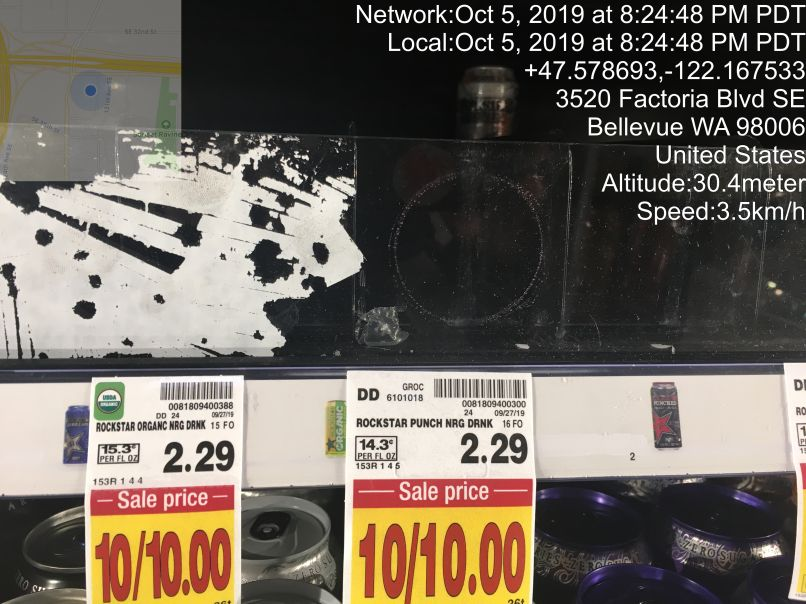Label: (86, 371, 250, 482)
Location: (543, 83, 806, 170)
Time: (347, 3, 801, 53)
Void: (24, 42, 529, 320)
